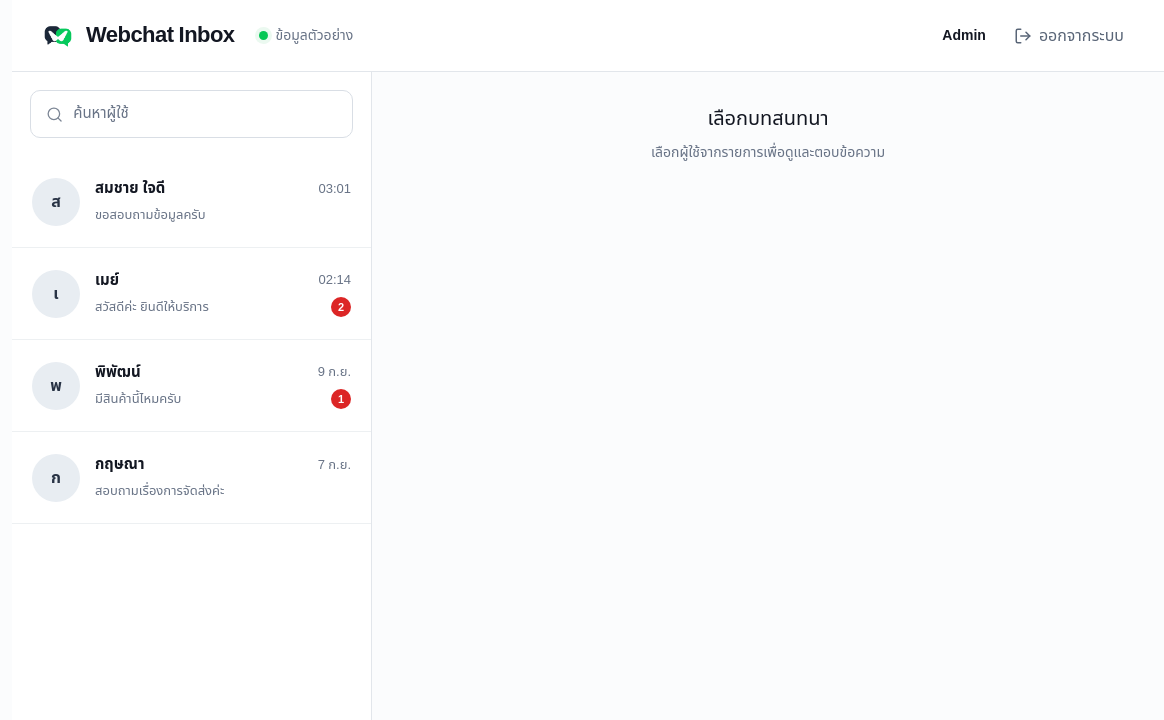
Scenario: Home › renders the inbox navigation
Expected: the text "Webchat Inbox" is shown, [86,19,234,52]
Expected: the button "ส สมชาย ใจดี 03:01 ขอสอบถามข้อมูลครับ" is shown, [12,156,371,248]
Type "ไม่มีชื่อนี้" into the search field labelled "ค้นหาผู้ใช้" at (205, 114), box [73,103,337,125]
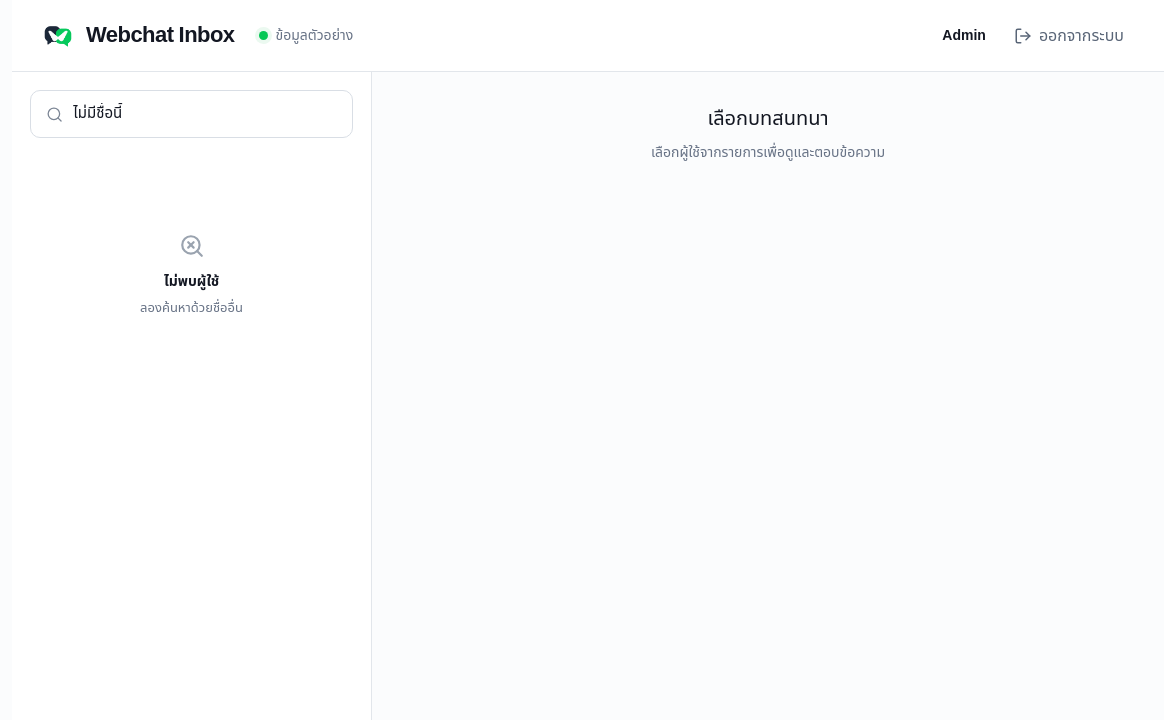
Now the text "ไม่พบผู้ใช้" is shown, box [164,271,219,292]
Now the text "ลองค้นหาด้วยชื่ออื่น" is shown, box [140,299,243,319]
